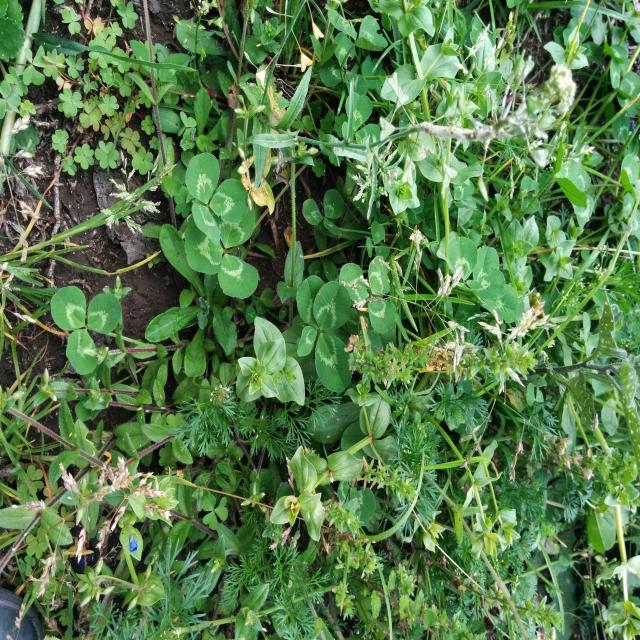Four Leaf Clover: (296, 275, 352, 392)
